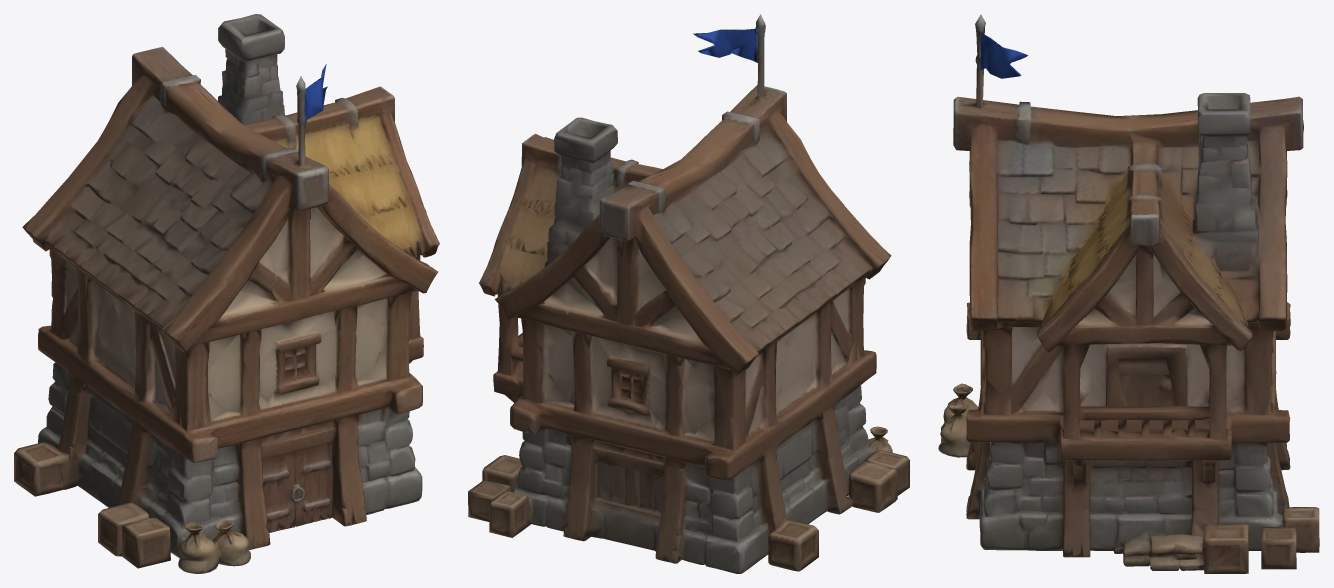
The model's file is hq_human_1.glb.
The picture shows the model from 3 angles, left to right: view 1: azimuth 30°, elevation 25°; view 2: azimuth 150°, elevation 25°; view 3: azimuth 270°, elevation 25°; orthographic projection. The views are drawn at different scales.
Visible parts, largest first — view 1: Static_Mesh; view 2: Static_Mesh; view 3: Static_Mesh.
Part boxes in pixels (<box>): Static_Mesh: <box>14,14,439,573</box>; Static_Mesh: <box>468,14,909,573</box>; Static_Mesh: <box>938,14,1319,573</box>.
Bounding box in the file's own units: 6.81 × 9 × 6.52.
Materials: 2 (2 with a texture image).
